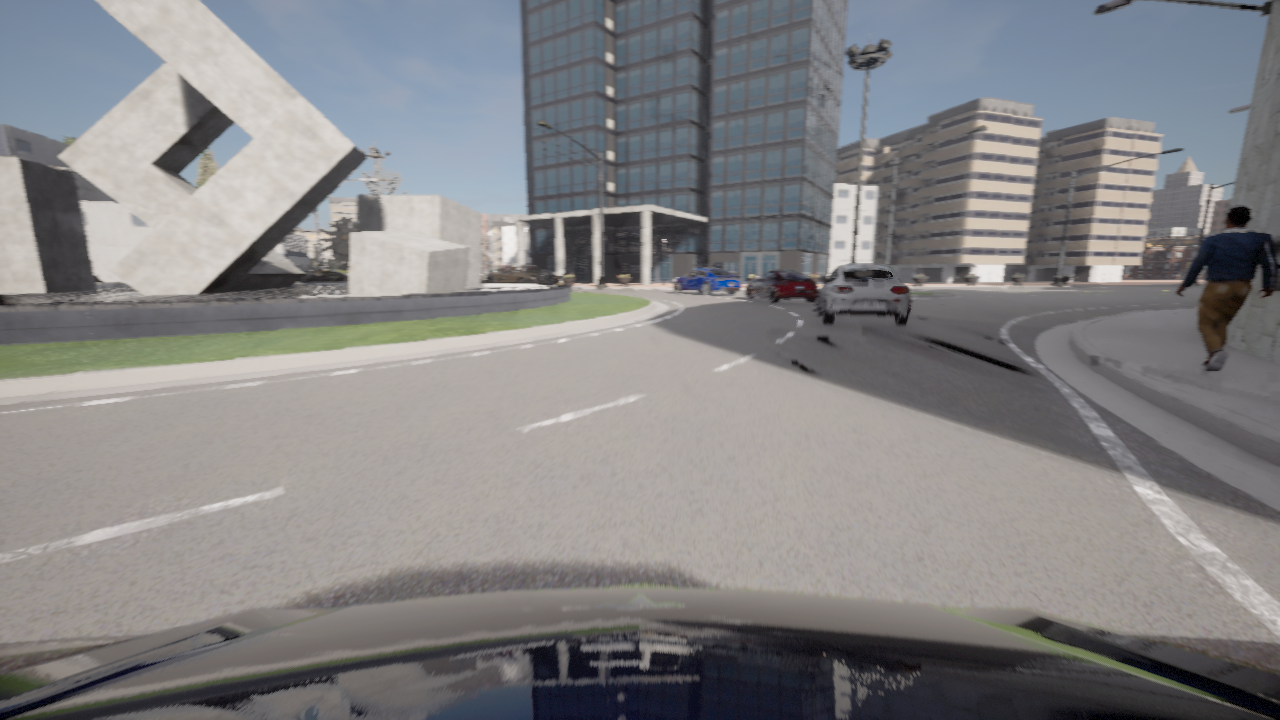cyclist: (0, 584, 1279, 719), (812, 264, 913, 325), (745, 270, 818, 302), (673, 268, 739, 295), (482, 266, 545, 282), (298, 268, 349, 280), (540, 270, 564, 283), (94, 275, 102, 282)
pedestrian: (1176, 206, 1279, 372)
